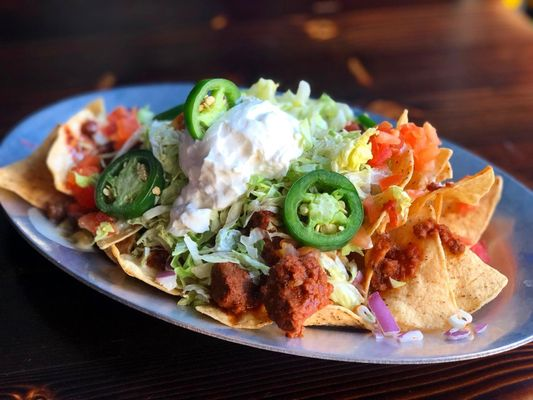curry: (1, 64, 529, 399)
sandwich: (34, 75, 526, 340)
